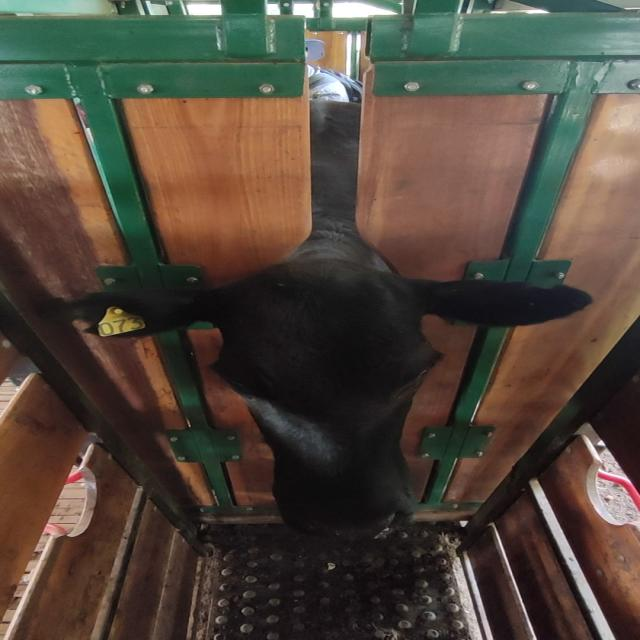cowFace: (212, 259, 438, 544)
